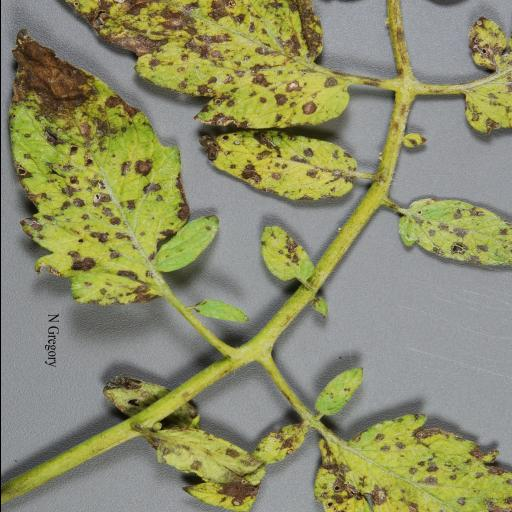Septoria: (8, 33, 220, 311), (52, 0, 354, 130), (310, 410, 512, 512), (194, 119, 356, 199), (133, 427, 277, 510), (394, 194, 512, 272), (456, 14, 512, 137), (254, 216, 316, 288), (251, 422, 309, 466)
